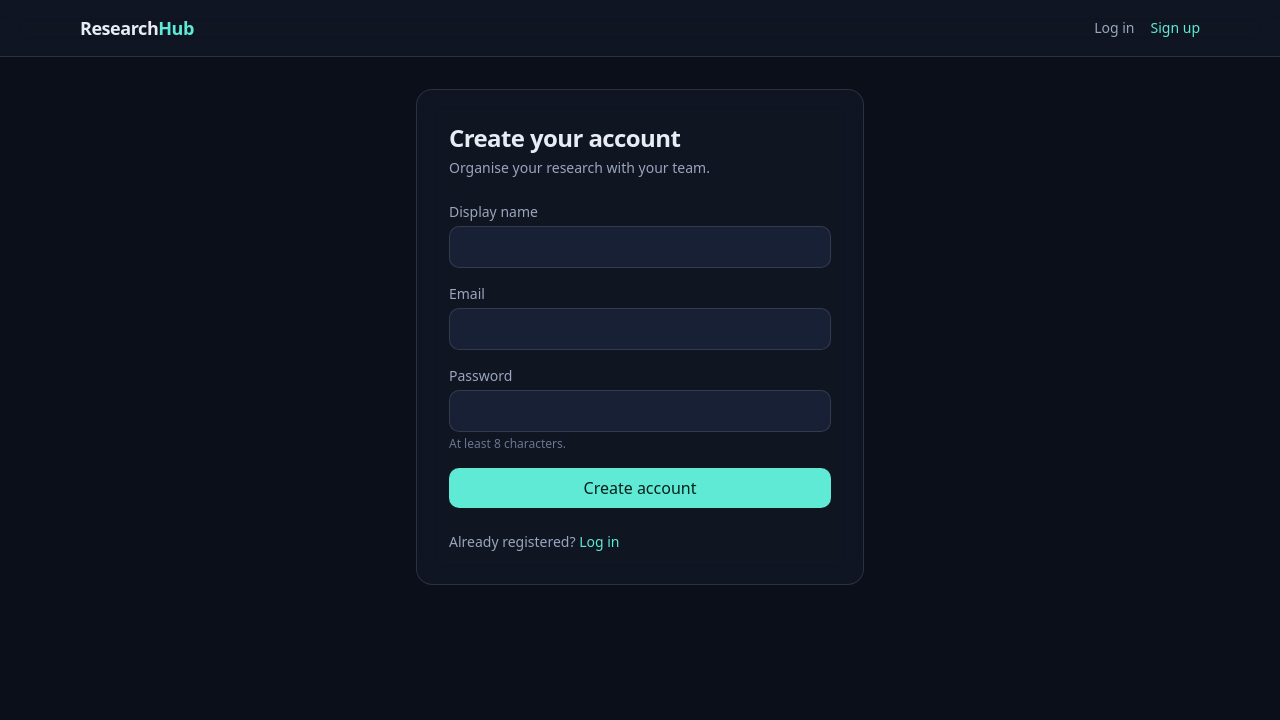
Test: registration › registers, stores the session, and lands on the home page
This screenshot has width=1280, height=720.
Type "Ana" into the field labelled "Display name" at (640, 247), box left=449, top=226, right=831, bottom=268
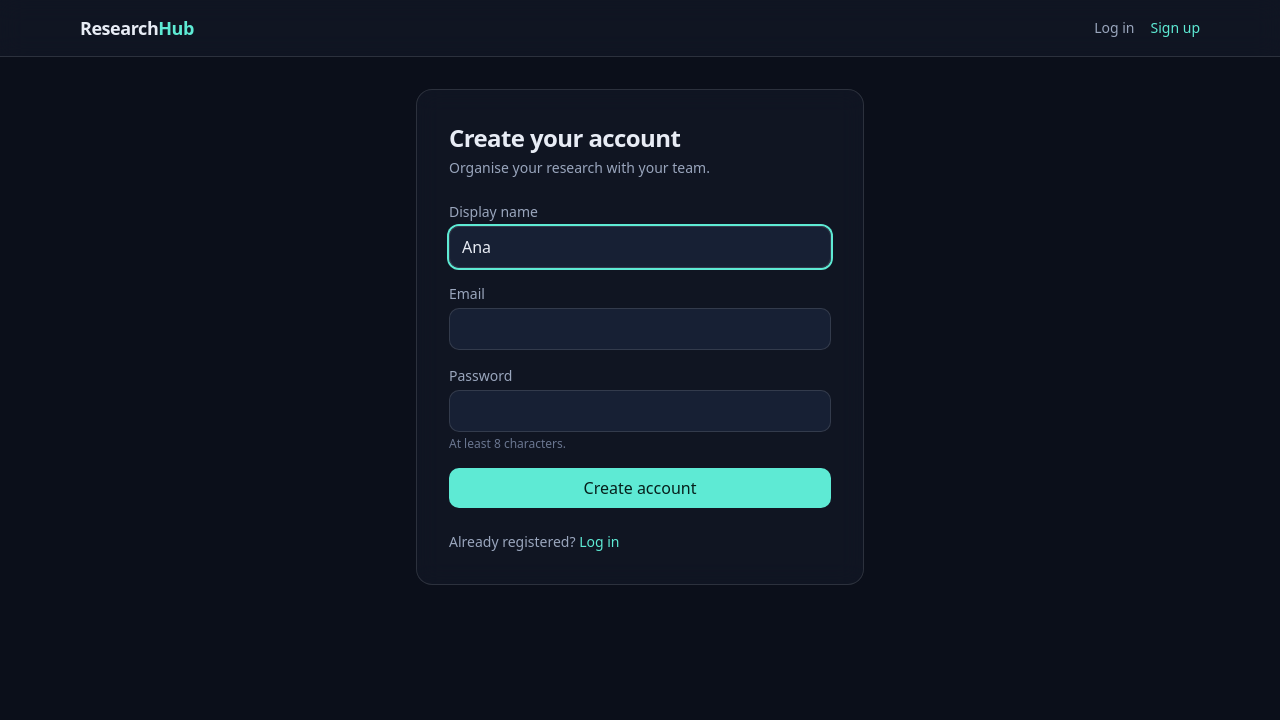
Type "ana@example.com" into the field labelled "Email" at (640, 329), box left=449, top=308, right=831, bottom=350
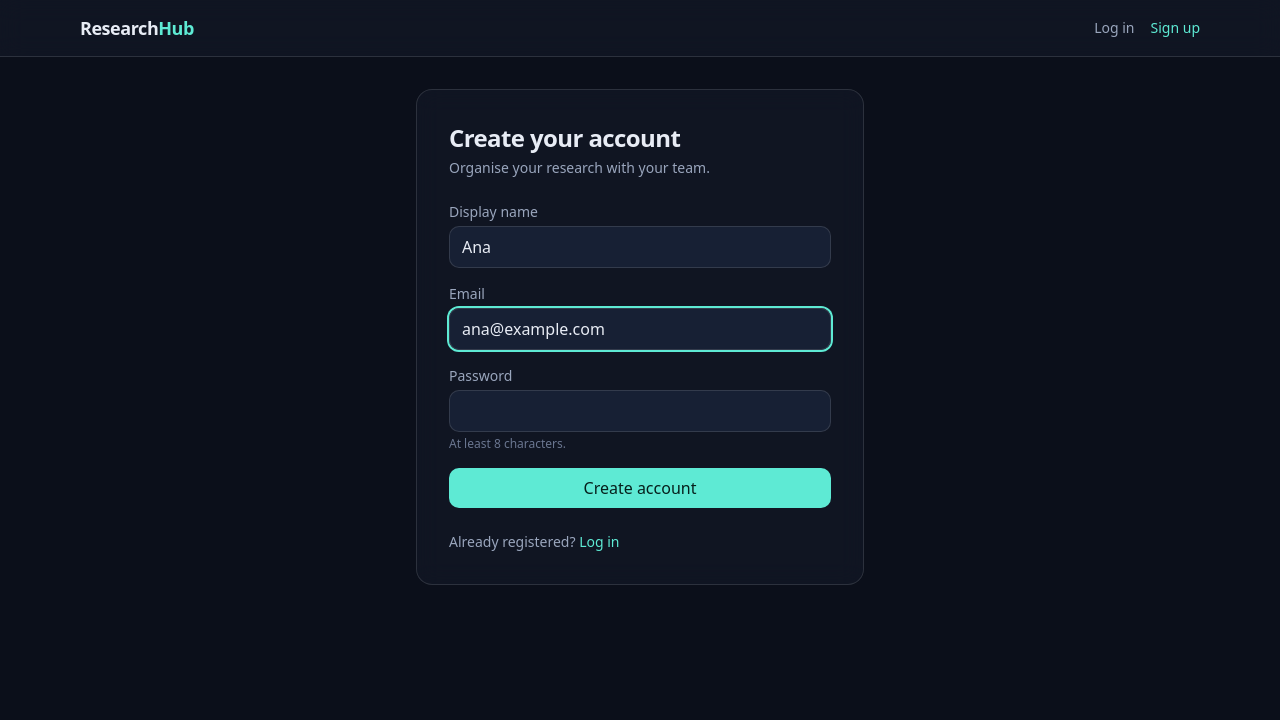
Type "SecurePass123!" into the password field labelled "Password" at (640, 411), box left=449, top=390, right=831, bottom=432
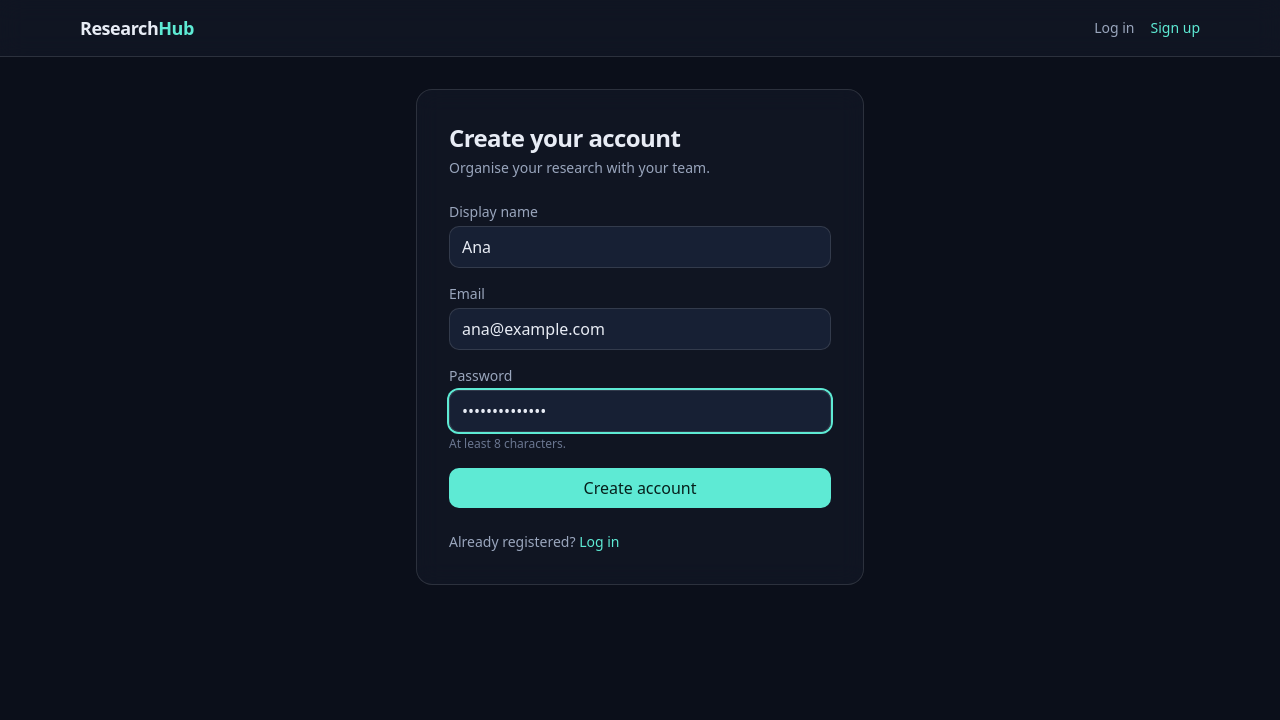
Click the button "Create account" at (640, 488), box left=449, top=468, right=831, bottom=508
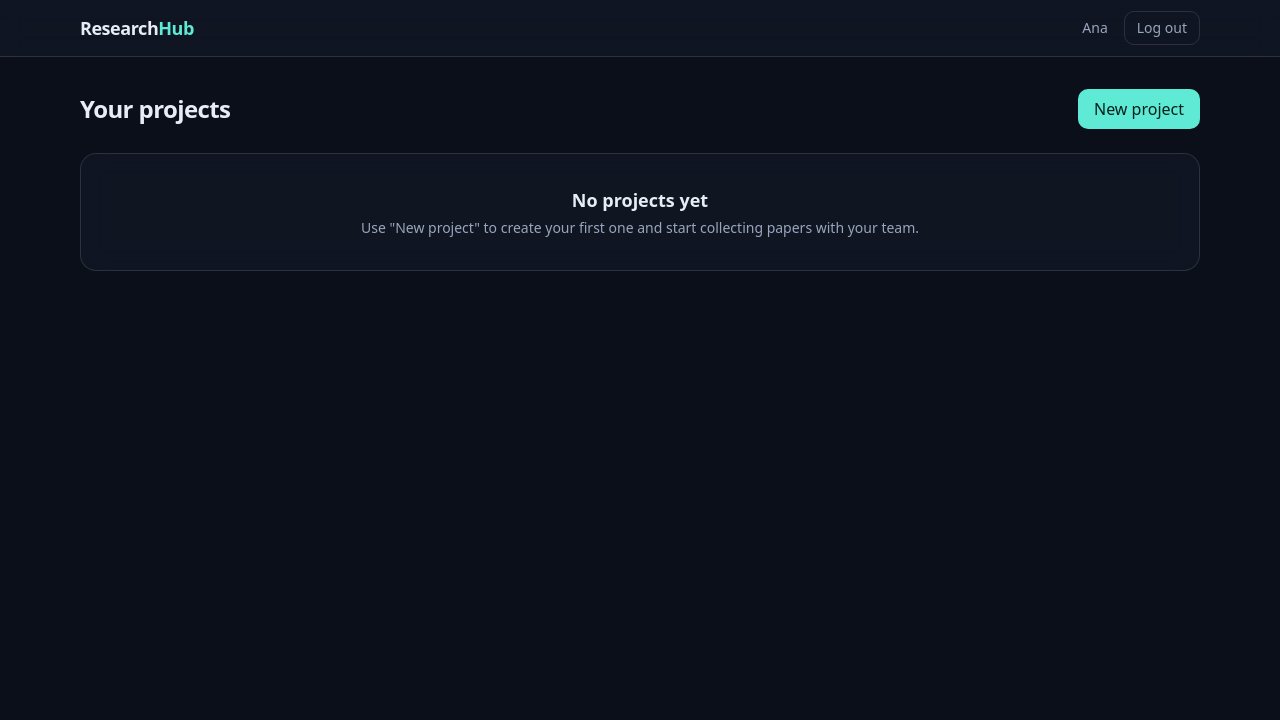
expect the heading "Your projects" is shown: met, box left=80, top=93, right=230, bottom=125
